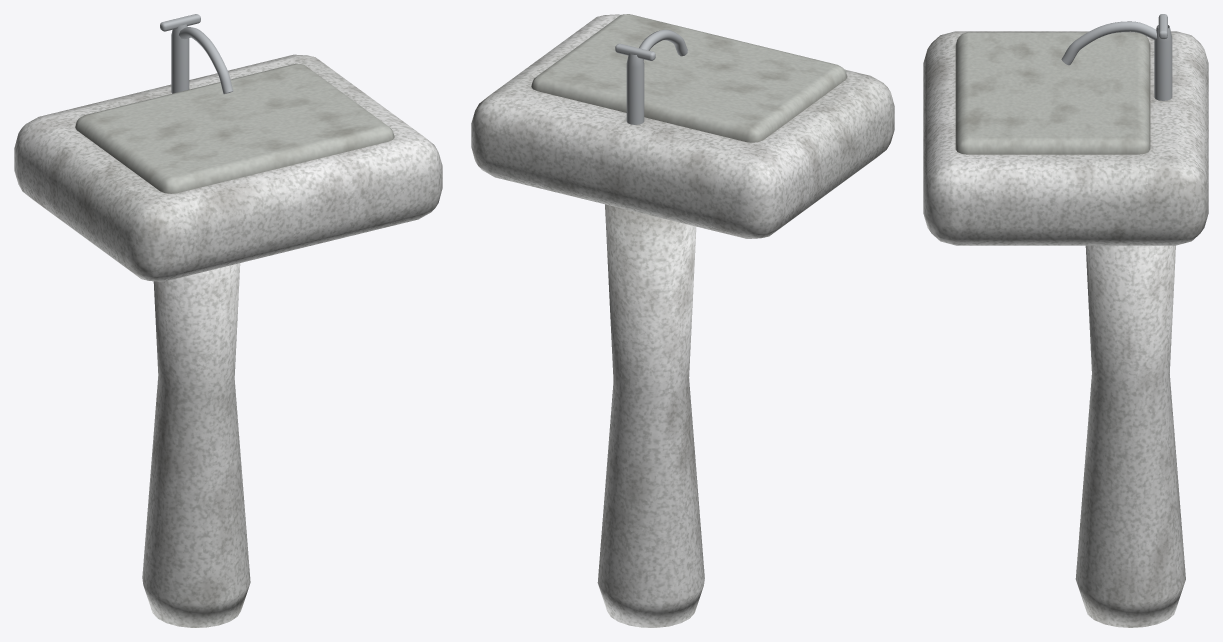
Rendered from lazienka_umywalka.glb.
3 renders of one model, left to right at view 1: azimuth 30°, elevation 25°; view 2: azimuth 150°, elevation 25°; view 3: azimuth 270°, elevation 25°, orthographic. The views are drawn at different scales.
Visible parts, largest first — view 1: Umywalka, Chrom; view 2: Umywalka, Chrom; view 3: Umywalka, Chrom.
Boxes of the visible parts, left/top/right/bottom form: Umywalka: left=14, top=54, right=442, bottom=627; Chrom: left=160, top=14, right=233, bottom=94; Umywalka: left=471, top=14, right=894, bottom=627; Chrom: left=615, top=29, right=687, bottom=124; Umywalka: left=923, top=31, right=1208, bottom=627; Chrom: left=1061, top=14, right=1172, bottom=100.
Size of the model in its own units: 0.56 by 0.9985 by 0.44.
2 materials, 1 textured.
